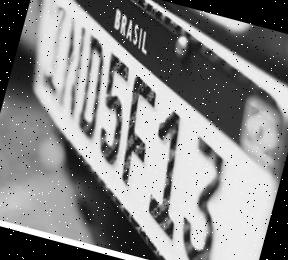placa_mercosul: (29, 0, 288, 260)
